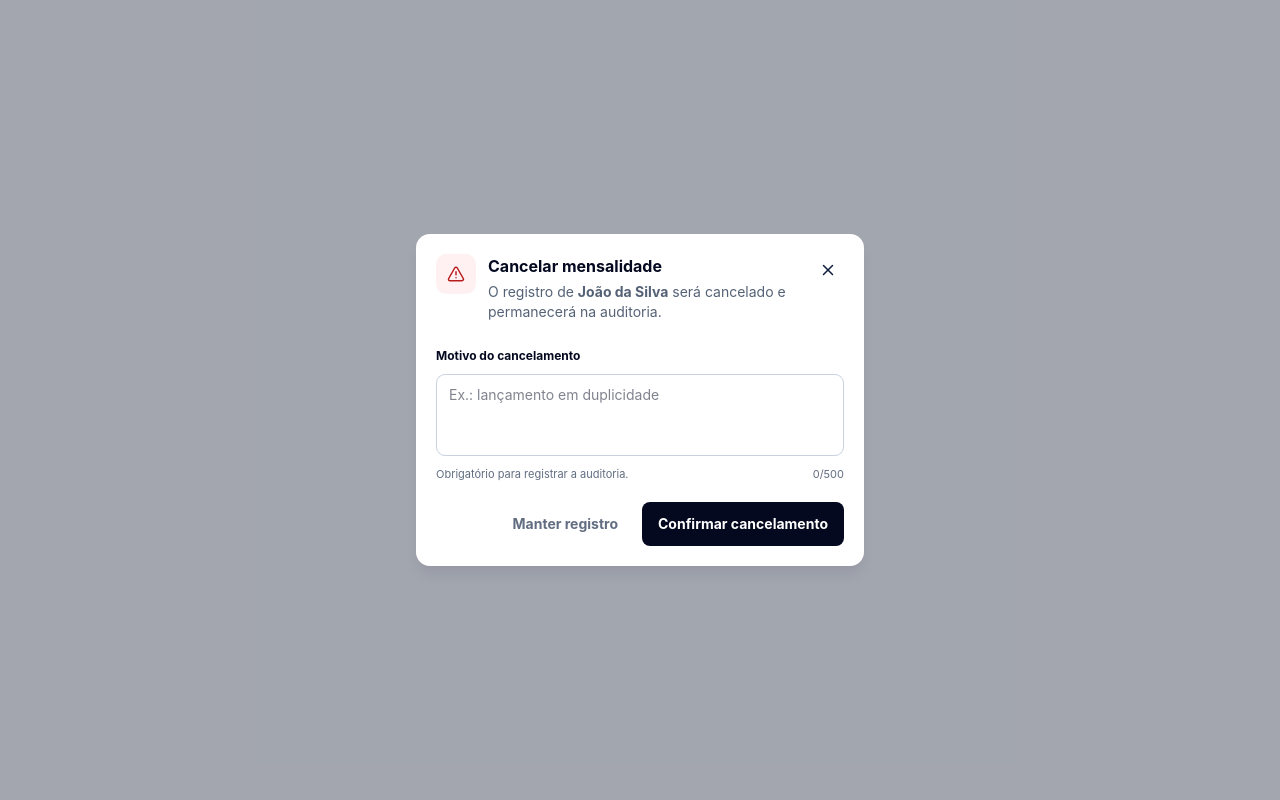
Test case: CancelPaymentDialog › requires a reason with at least three characters
Click the button "Confirmar cancelamento" at (743, 524), box [642,502,844,546]
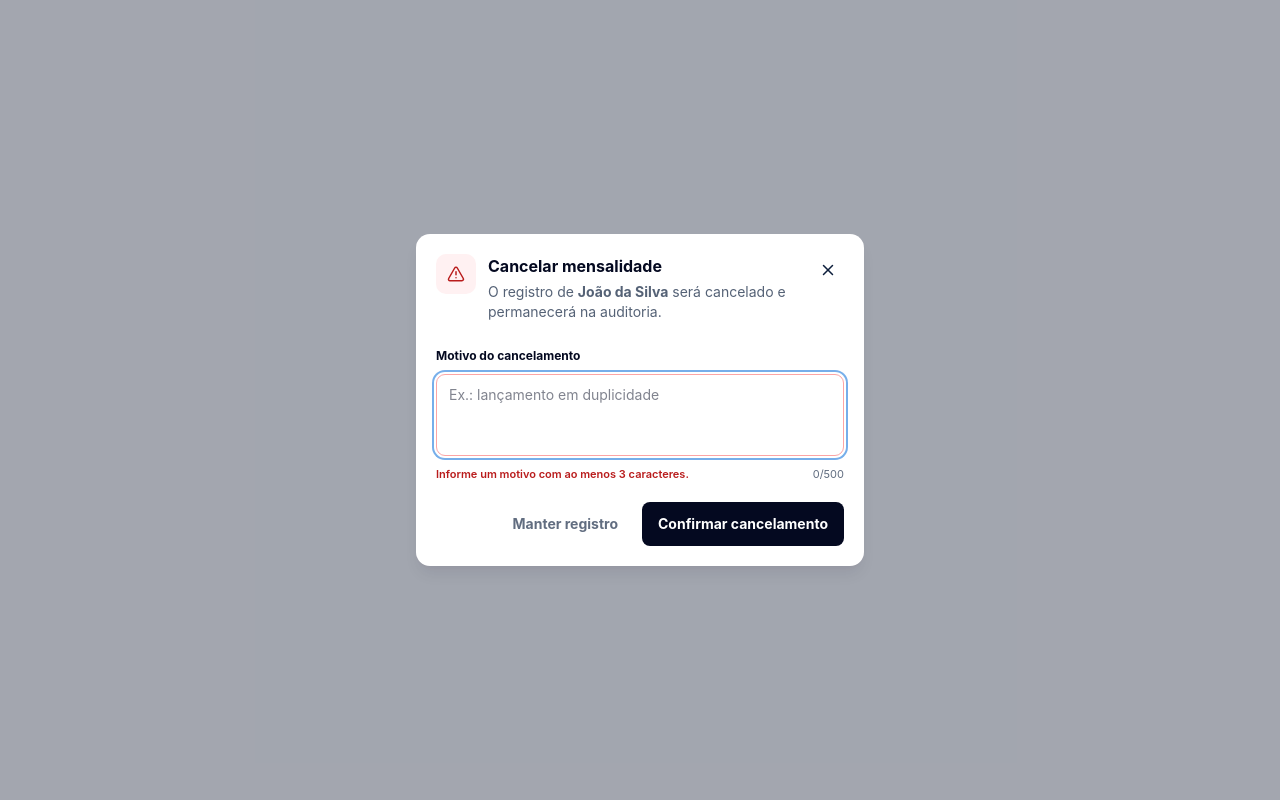
Expected: the message shows "ao menos 3 caracteres", [436,467,689,481]
Type "ok" into the text box labelled "Motivo do cancelamento" at (640, 415), box [436,374,844,456]
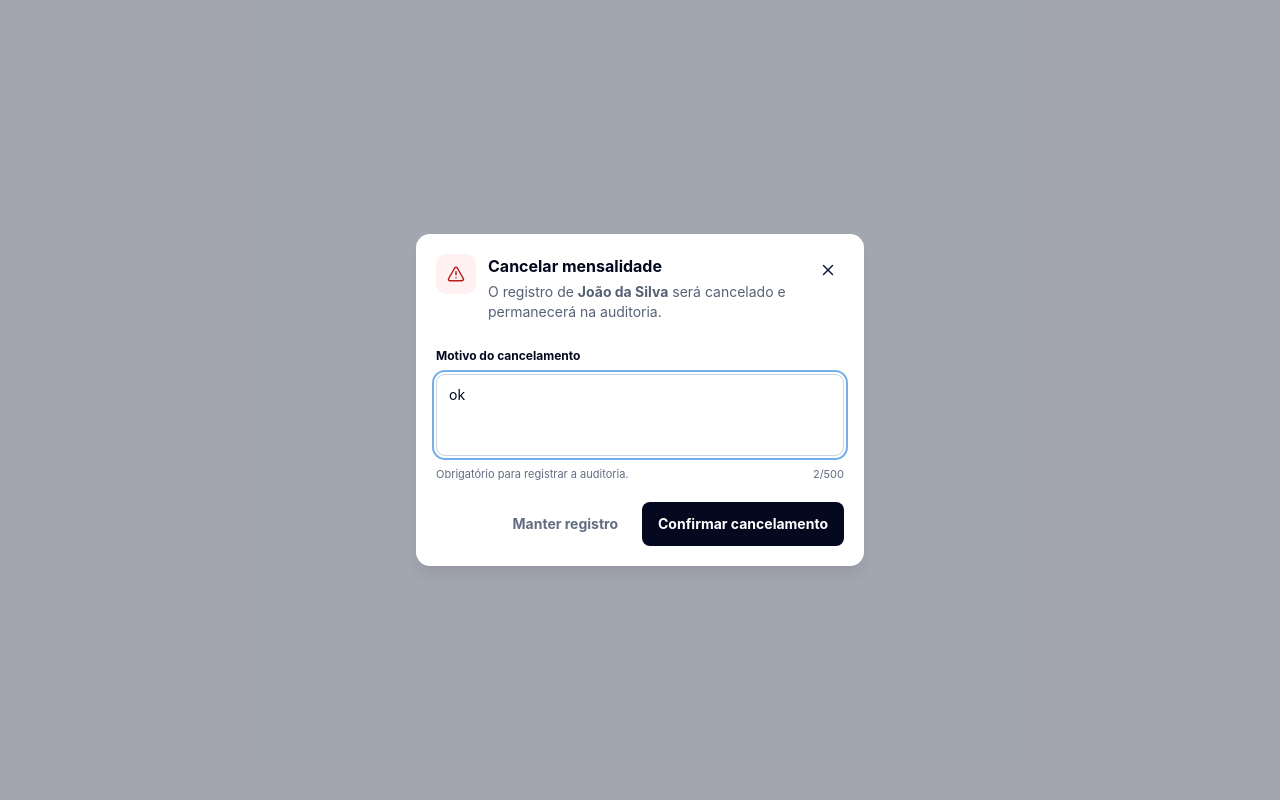
Click the button "Confirmar cancelamento" at (743, 524), box [642,502,844,546]
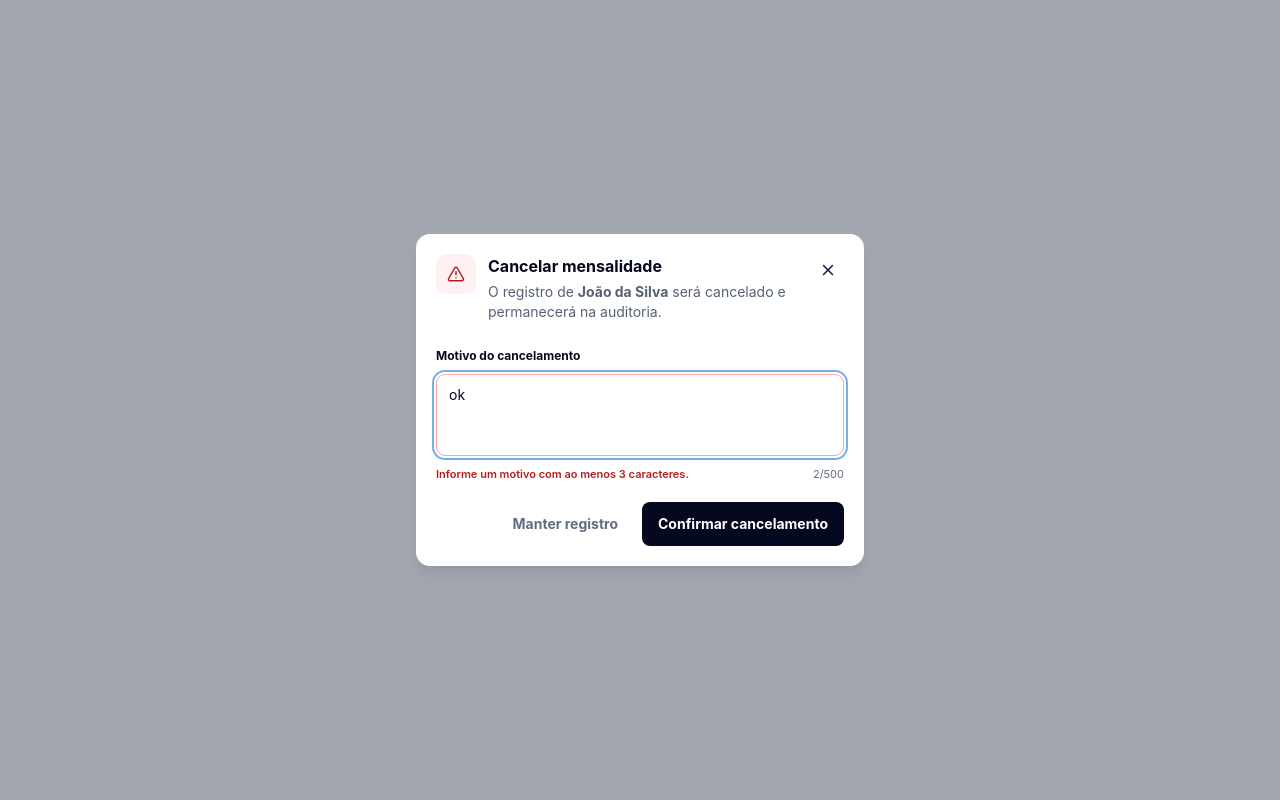
Expected: the message shows "ao menos 3 caracteres", [436,467,689,481]
